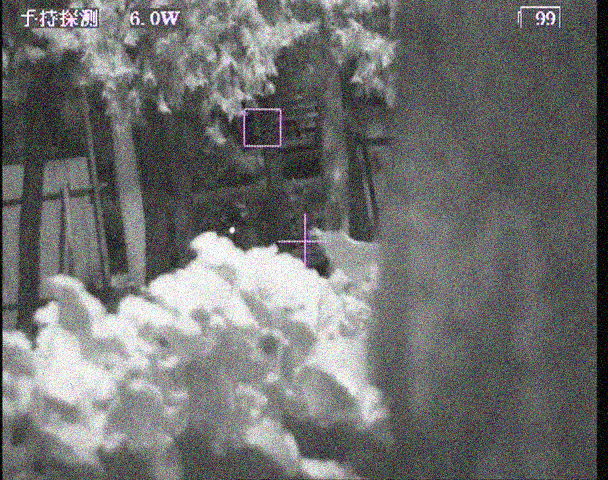my: (229, 225, 236, 235)
